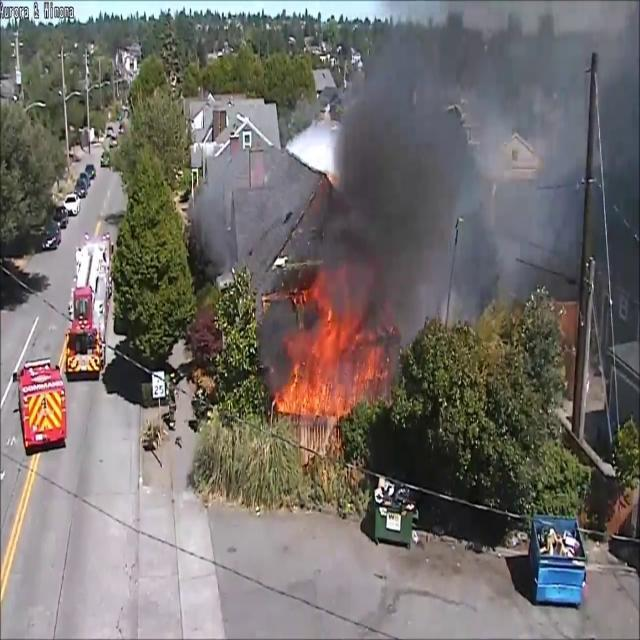Fire: (274, 294, 388, 419)
Smoke: (304, 2, 640, 337)
